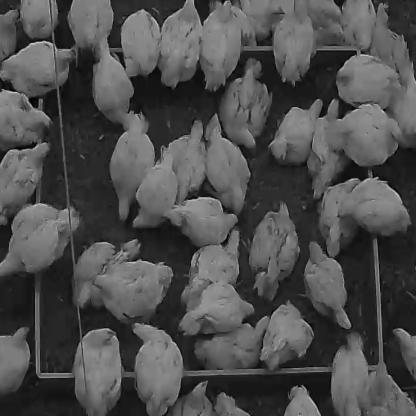chicken: (0, 202, 80, 276), (94, 260, 174, 325), (249, 201, 300, 300), (109, 110, 154, 220), (204, 112, 251, 213), (132, 322, 182, 415), (221, 57, 272, 148), (330, 102, 400, 166), (302, 240, 352, 328), (180, 228, 239, 302), (0, 141, 51, 226), (179, 279, 254, 336), (194, 314, 270, 370), (74, 327, 122, 415), (338, 177, 410, 235), (0, 41, 75, 96), (74, 241, 136, 306), (307, 97, 346, 196), (158, 119, 206, 199), (199, 0, 241, 91), (268, 96, 323, 164), (259, 302, 314, 368), (159, 0, 200, 88), (165, 197, 238, 246), (335, 52, 397, 109), (132, 152, 177, 227), (320, 176, 362, 256), (92, 42, 133, 122), (0, 88, 52, 149), (66, 0, 113, 65), (331, 332, 368, 414), (273, 11, 314, 84), (121, 9, 160, 76), (241, 0, 295, 48), (366, 364, 415, 414), (293, 0, 344, 43), (396, 37, 416, 146), (0, 326, 30, 394), (370, 2, 399, 70), (340, 0, 376, 47), (165, 380, 212, 415), (20, 0, 58, 38), (392, 326, 416, 379), (282, 385, 321, 415), (0, 9, 18, 58), (212, 392, 250, 415)
